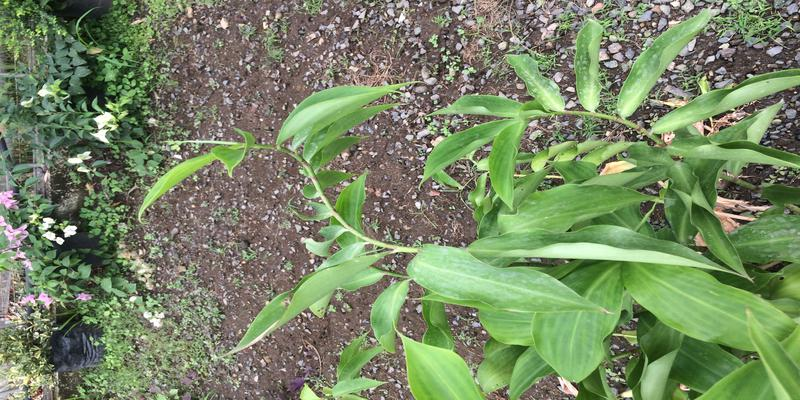Insulin: (426, 85, 800, 397)
